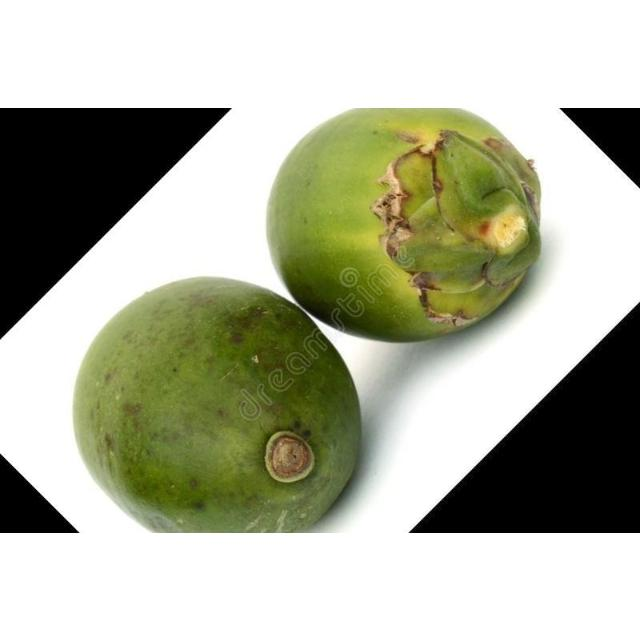good: (70, 275, 363, 532), (264, 107, 542, 344)
